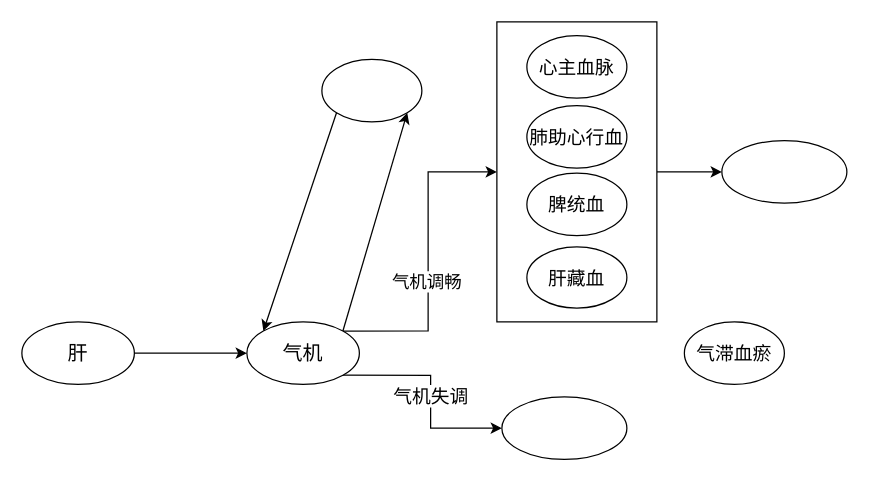
Some shapes in this 869 by 481 pixel diagram are drawn without their labels. The box of each missing label's shape, as (x1, y1, x2, y2) in pixels:
气机阻滞: (501, 396, 627, 459)
气血运行正常: (721, 139, 847, 203)
调畅情志: (321, 58, 422, 122)
